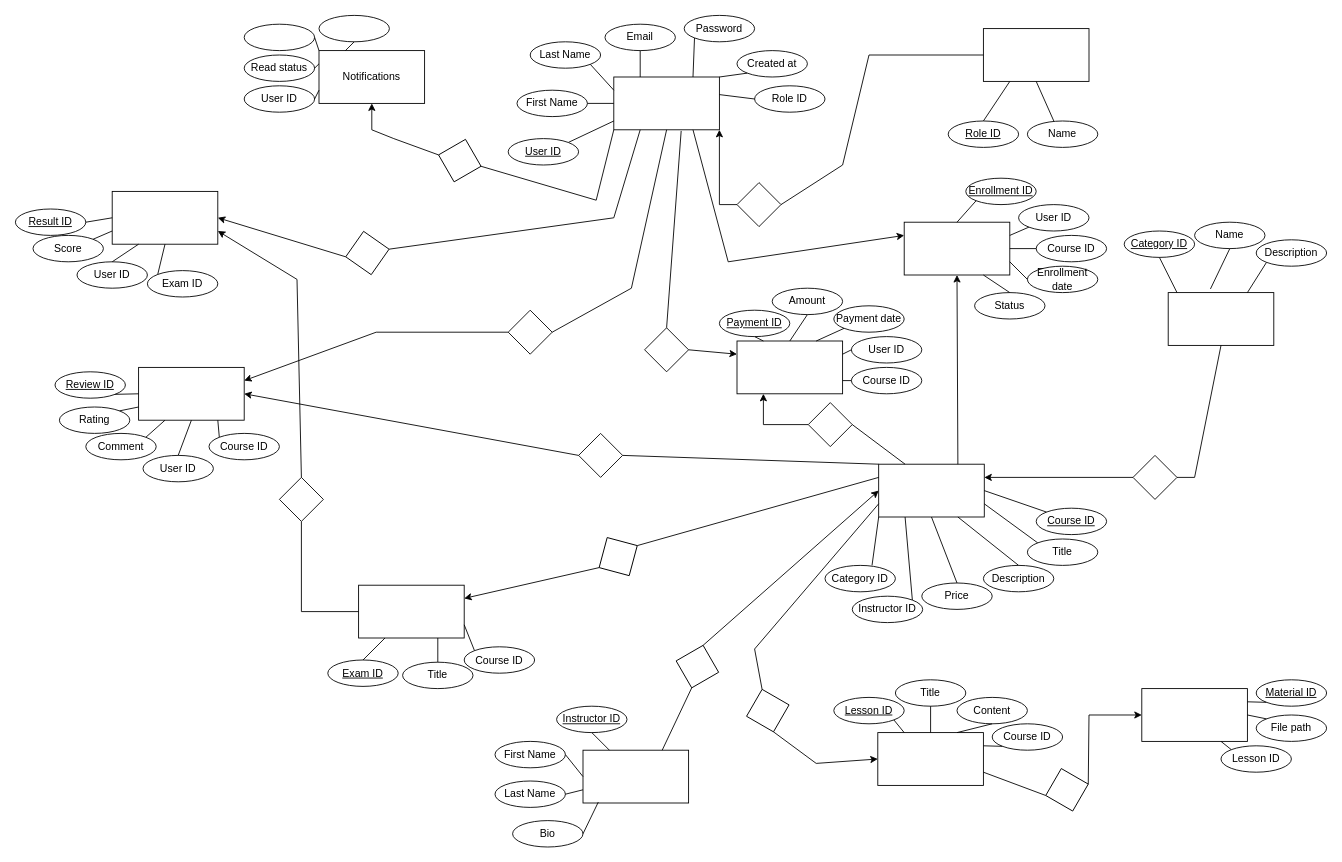
Image size: 1342x862. Some labels were removed from this diagram. The centre of each missing label's shape, as x and y in pixels:
Categories: point 1220,318
Courses: point 931,490
Enrollments: point 956,248
Exams: point 411,611
Instructors: point 635,776
Lessons: point 930,758
Materials: point 1194,714
Message: point 279,37
Notification ID: point 353,28
Payments: point 789,367
Results: point 164,217
Reviews: point 191,393
Roles: point 1036,54
Users: point 666,103
